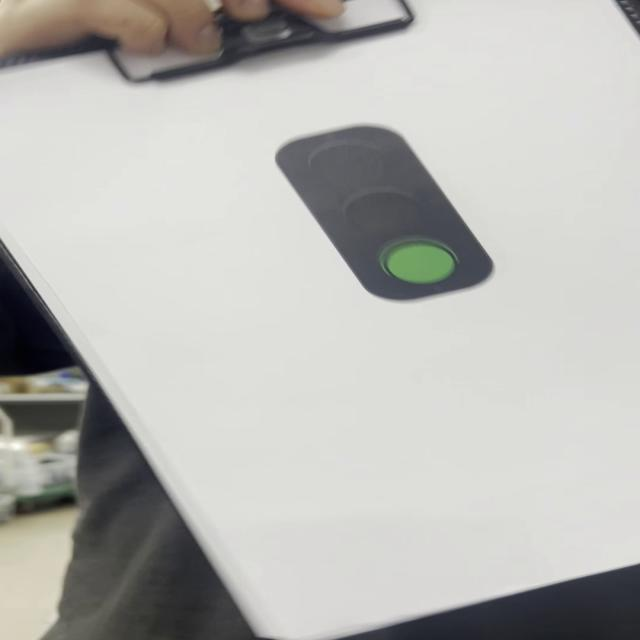green: (280, 126, 493, 305)
